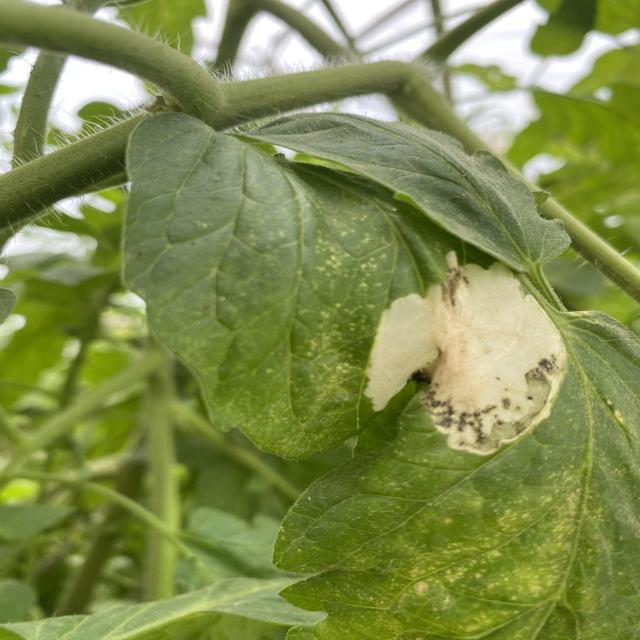Tuta absoluta: (343, 227, 598, 480)
